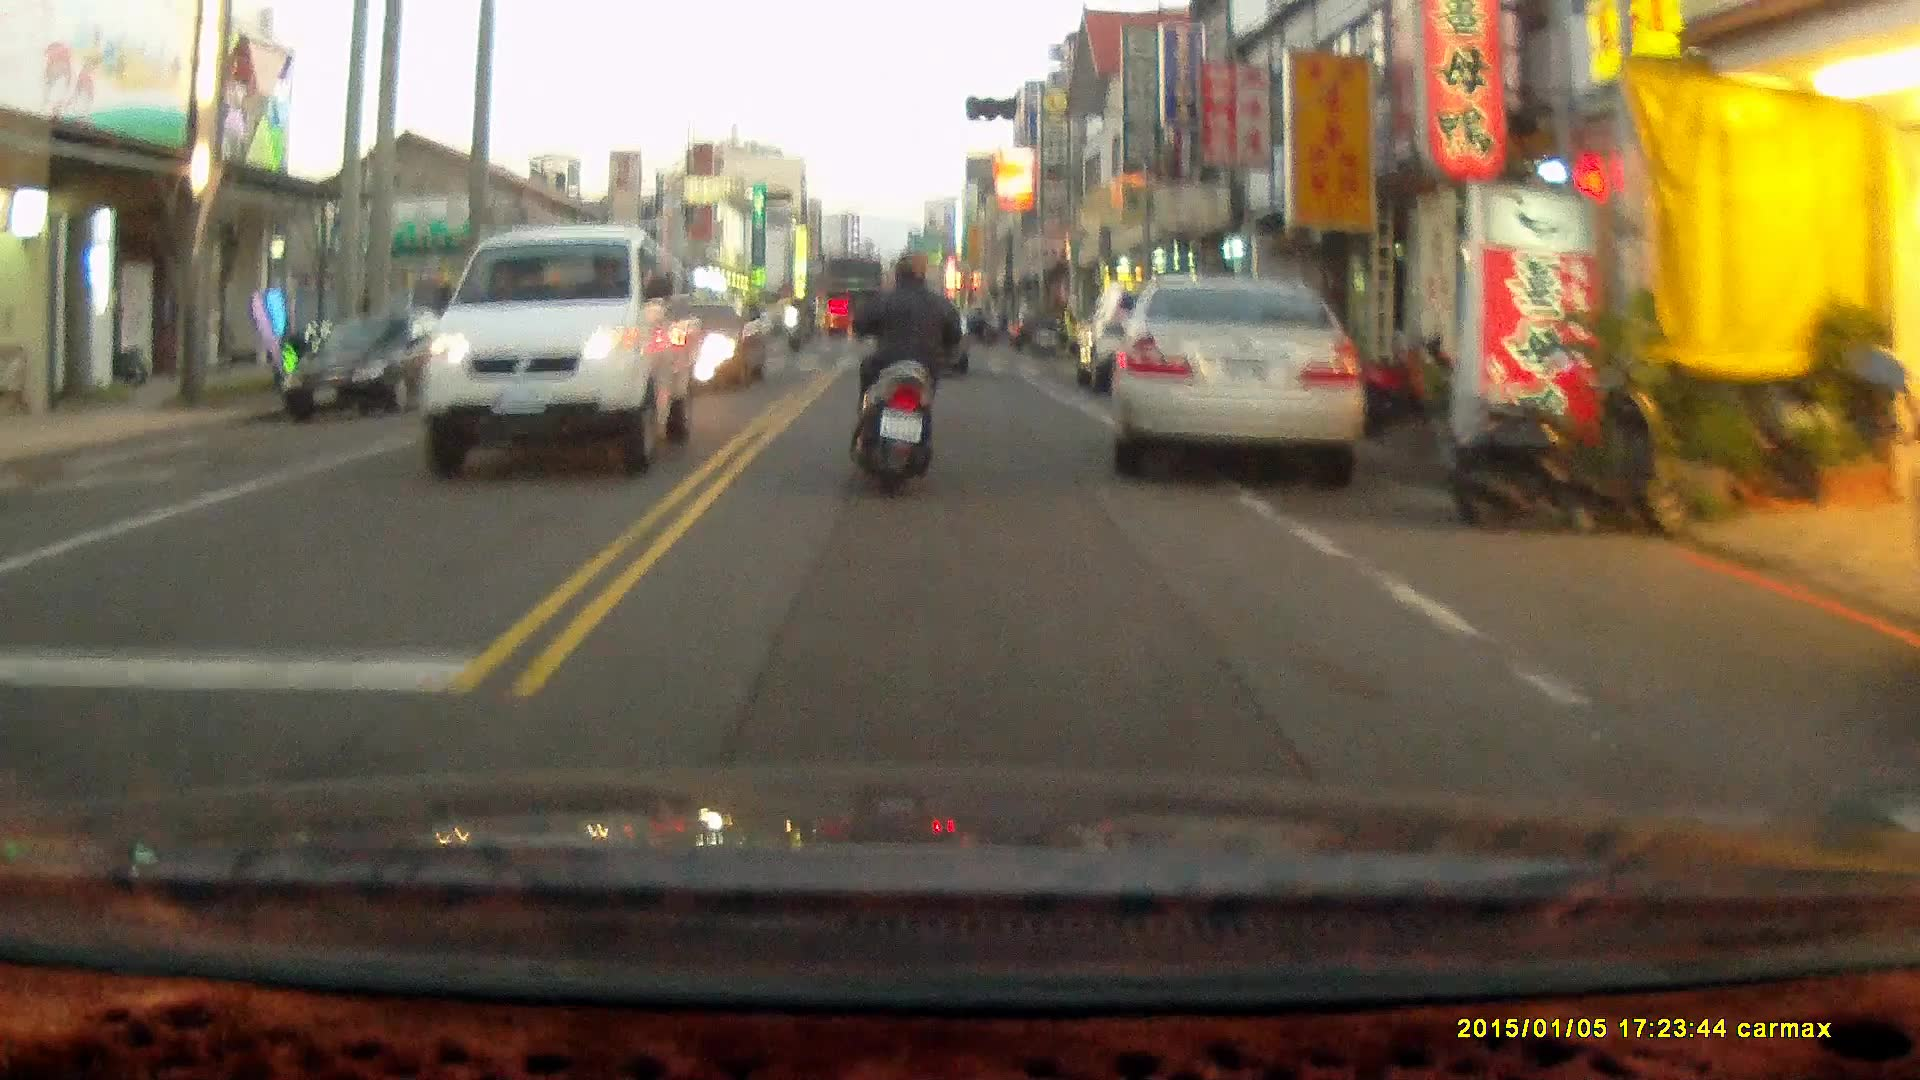pedestrian: (1058, 295, 1081, 364)
rider: (842, 251, 972, 505), (781, 294, 804, 350)
vehicle: (416, 226, 697, 478), (1107, 269, 1372, 474), (282, 308, 467, 415), (821, 251, 889, 334)
